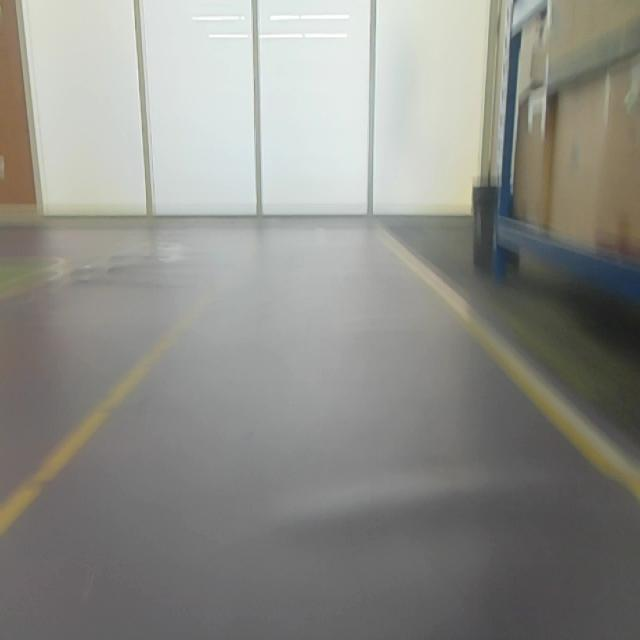left_lane: (0, 256, 236, 540)
right_lane: (390, 236, 639, 500)
